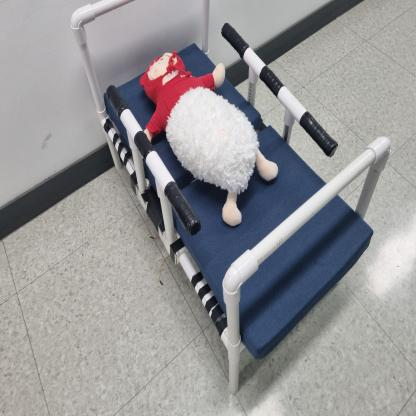yp: (70, 0, 390, 408)
